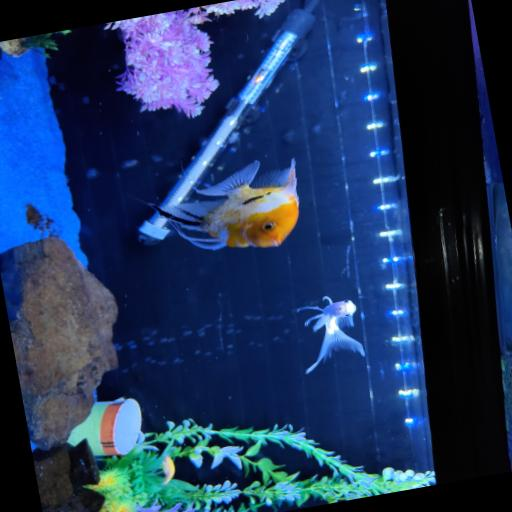Fish: (151, 159, 297, 249), (296, 296, 364, 373), (161, 454, 174, 484)
